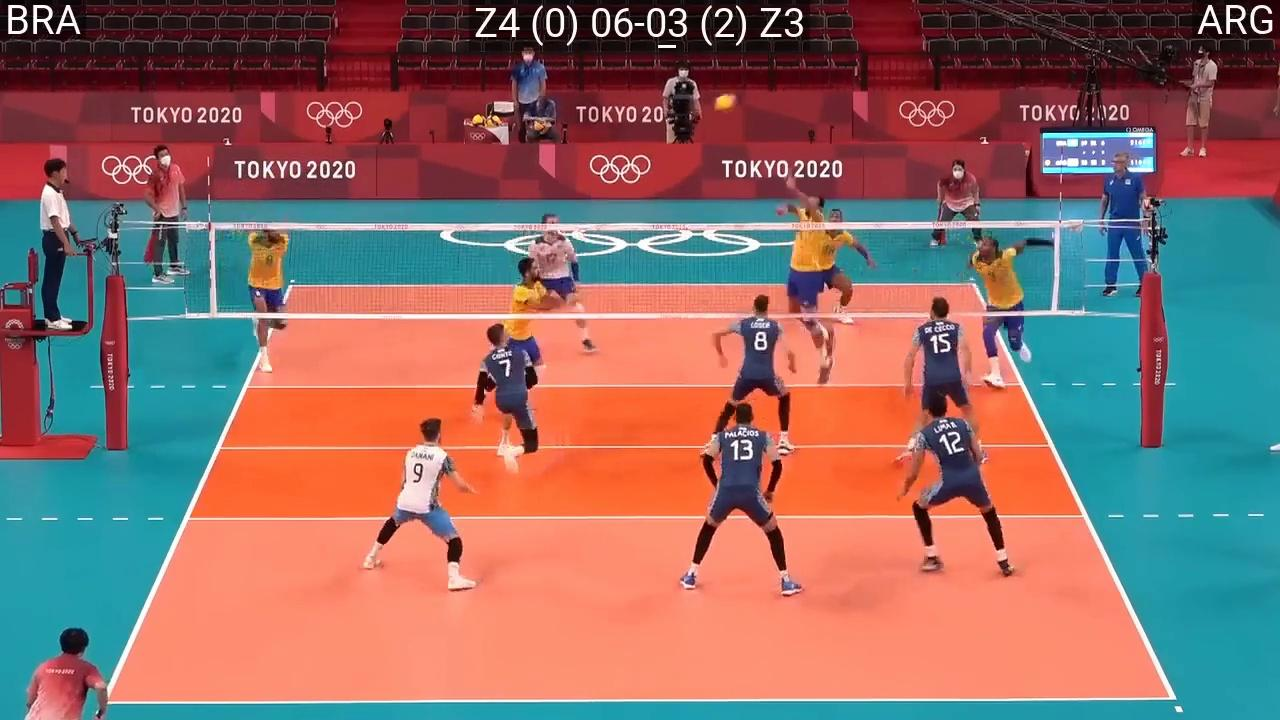ball: (715, 95, 737, 110)
